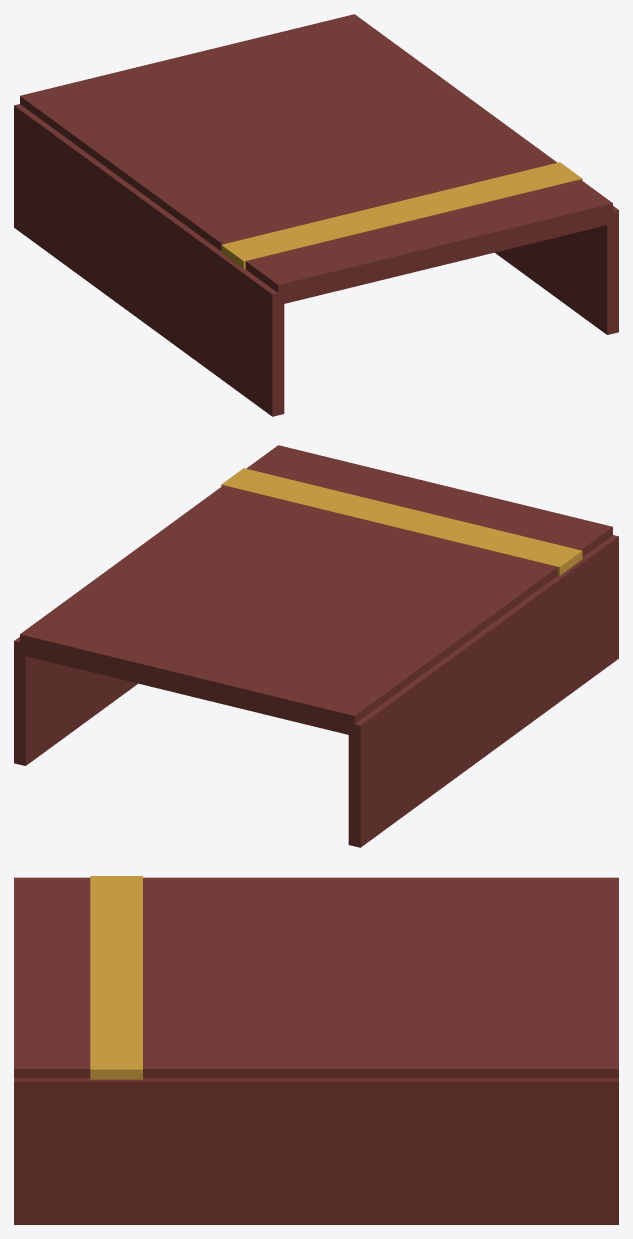
Rendered from item-blanket.glb.
The picture shows the model from 3 angles, top to bottom: view 1: azimuth 30°, elevation 25°; view 2: azimuth 150°, elevation 25°; view 3: azimuth 270°, elevation 25°; orthographic projection. The views are drawn at different scales.
Visible parts, largest first — view 1: #7a3a34, #d8a840_noshadow; view 2: #7a3a34, #d8a840_noshadow; view 3: #7a3a34, #d8a840_noshadow.
Part boxes in pixels (box(x1,y1,x2,y2)): #7a3a34: box(14, 14, 618, 416); #d8a840_noshadow: box(221, 162, 582, 269); #7a3a34: box(14, 445, 618, 847); #d8a840_noshadow: box(221, 468, 582, 575); #7a3a34: box(14, 877, 618, 1224); #d8a840_noshadow: box(90, 876, 142, 1079).
Size of the model in its own units: 0.89 by 0.321 by 1.15.
